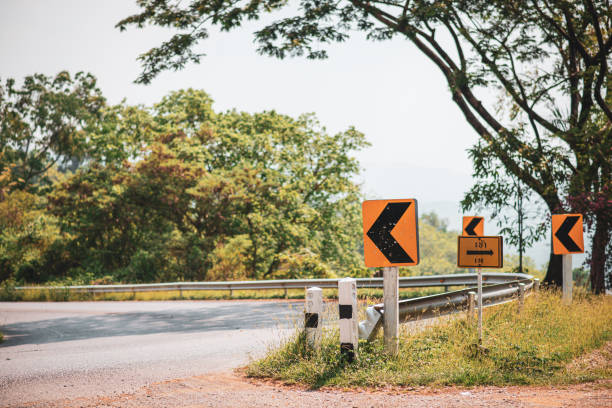left turn: (364, 200, 418, 265), (551, 215, 583, 254), (462, 215, 486, 239)
